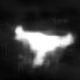plane: (12, 22, 76, 69)
